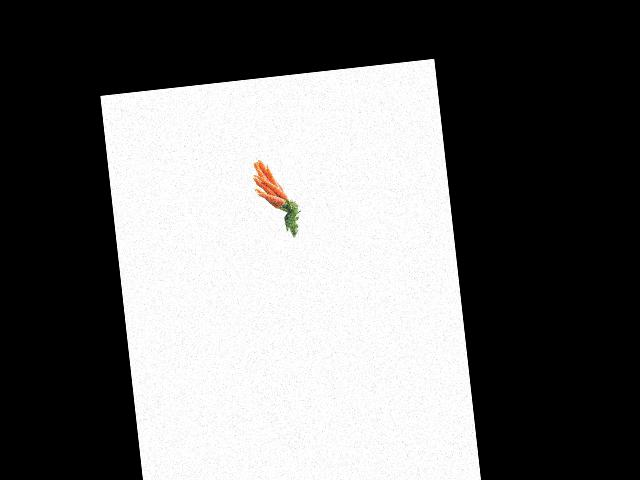carrot: (247, 192, 283, 212)
